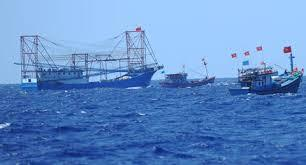Ship: (17, 30, 164, 89), (230, 47, 304, 96), (161, 58, 216, 88)
